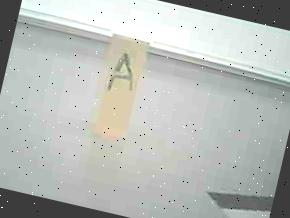Bottle A: (78, 18, 160, 152)
